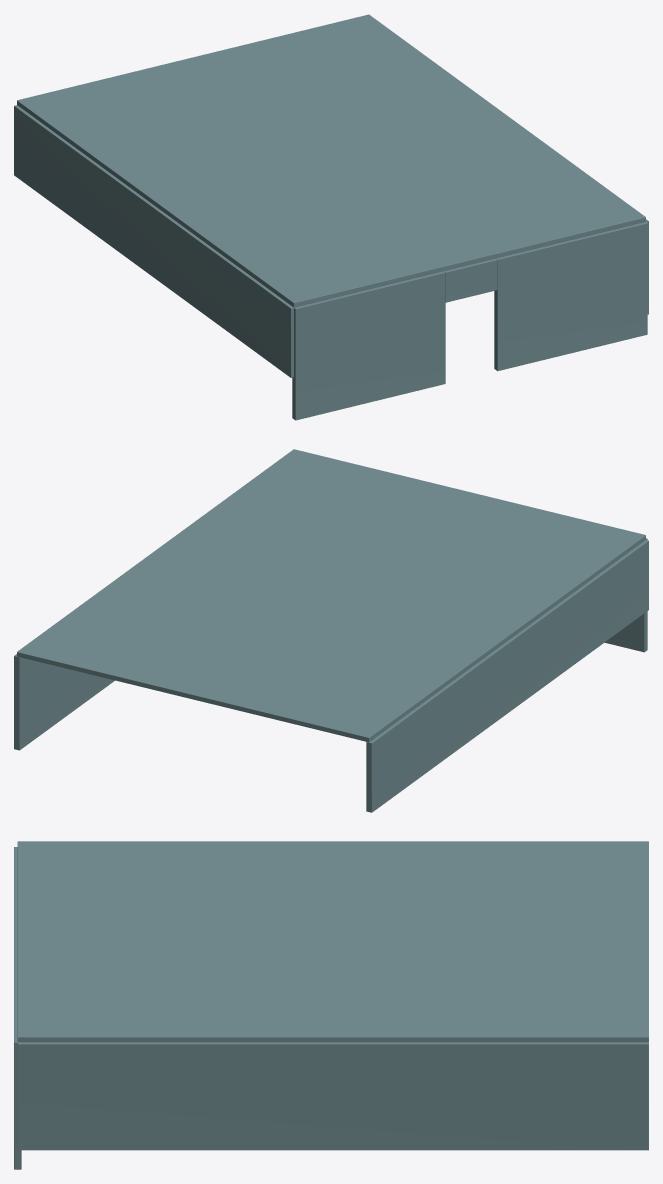
The model's file is server-hall-enclosure.fbx.
The picture shows the model from 3 angles, top to bottom: view 1: azimuth 30°, elevation 25°; view 2: azimuth 150°, elevation 25°; view 3: azimuth 270°, elevation 25°; orthographic projection. The views are drawn at different scales.
Parts seen in each view (by area): view 1: Enclosure_Ceiling, Enclosure_Left_Upper, Enclosure_Front_Pier.001, Enclosure_Front_Pier, Enclosure_Door_Lintel; view 2: Enclosure_Ceiling, Enclosure_Left_Upper, Enclosure_Right_Upper, Enclosure_Front_Pier; view 3: Enclosure_Ceiling, Enclosure_Right_Upper, Enclosure_Front_Pier.001.
Boxes of the visible parts, x1=… form: Enclosure_Ceiling: x1=17, y1=14, x2=645, y2=307; Enclosure_Left_Upper: x1=14, y1=105, x2=293, y2=377; Enclosure_Front_Pier.001: x1=494, y1=222, x2=647, y2=371; Enclosure_Front_Pier: x1=292, y1=271, x2=445, y2=420; Enclosure_Door_Lintel: x1=444, y1=258, x2=497, y2=302; Enclosure_Ceiling: x1=17, y1=449, x2=645, y2=742; Enclosure_Left_Upper: x1=366, y1=540, x2=648, y2=812; Enclosure_Right_Upper: x1=14, y1=654, x2=114, y2=750; Enclosure_Front_Pier: x1=605, y1=538, x2=647, y2=652; Enclosure_Ceiling: x1=17, y1=841, x2=648, y2=1042; Enclosure_Right_Upper: x1=17, y1=1042, x2=648, y2=1150; Enclosure_Front_Pier.001: x1=14, y1=959, x2=21, y2=1169.
Size of what is drawn, in the model's own units: 11.08 by 14.94 by 3.44.
